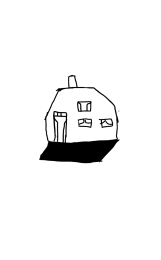chimney: (65, 72, 81, 91)
door: (51, 110, 70, 145)
open_window: (75, 99, 94, 114), (99, 116, 115, 131), (77, 117, 94, 130)
shadow: (36, 138, 122, 167)
single_line_roof: (45, 85, 116, 104)
small_house: (3, 0, 161, 260)
wall: (41, 98, 120, 144)
